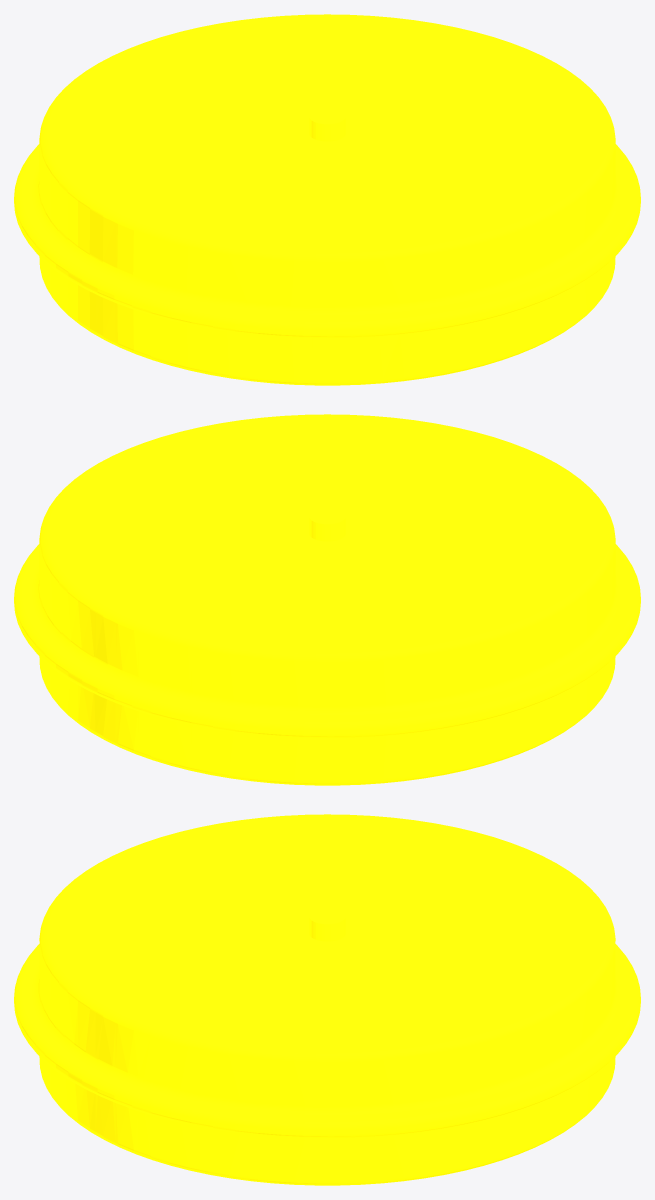
File: left_front_wheel.dae
3 renders of one model, top to bottom at view 1: azimuth 30°, elevation 25°; view 2: azimuth 150°, elevation 25°; view 3: azimuth 270°, elevation 25°, orthographic.
Parts seen in each view (by area): view 1: Front_Wheel; view 2: Front_Wheel; view 3: Front_Wheel.
Boxes of the visible parts, bbox=[...] form: Front_Wheel: bbox=[14, 14, 640, 385]; Front_Wheel: bbox=[14, 414, 640, 785]; Front_Wheel: bbox=[14, 814, 640, 1185].
Bounding box in the file's own units: 0.762 × 0.762 × 0.2238.
